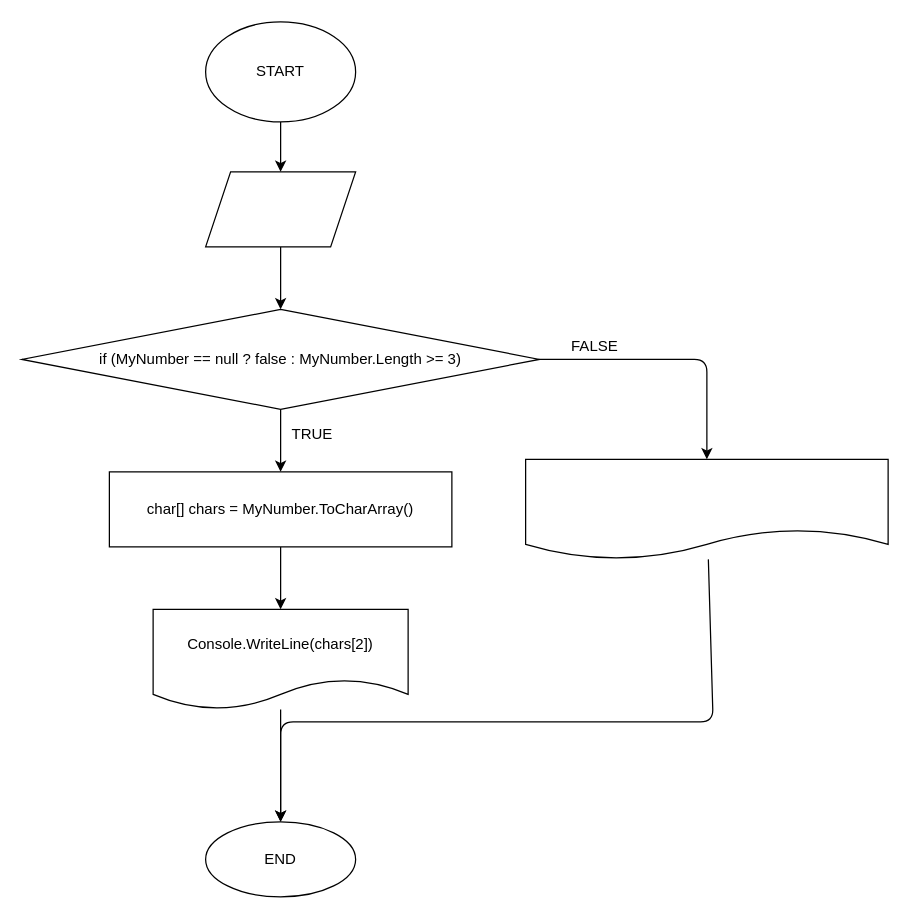
This 910x919 diagram has some shape labels left out. The box of each missing label's shape, as (x1, y1, x2, y2) in pixels:
Console.WriteLine("The number doesn't have third digit"): (524, 458, 888, 559)
MyNumber: (204, 171, 356, 247)
